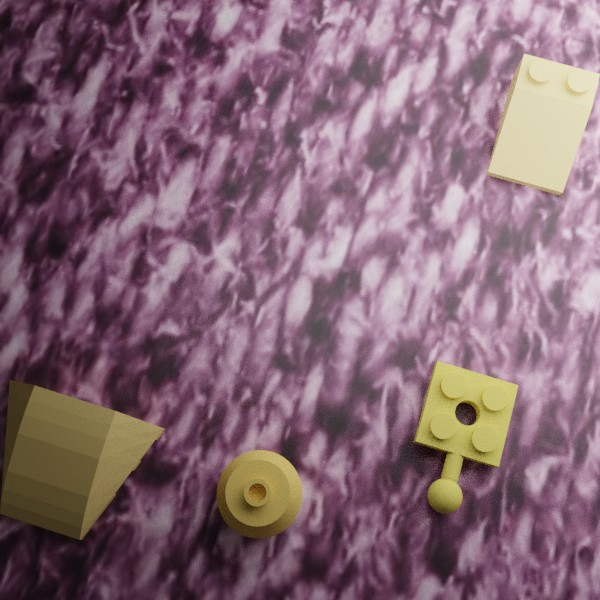lego: (0, 379, 165, 540), (486, 53, 600, 195), (413, 360, 518, 513), (216, 450, 302, 538)
